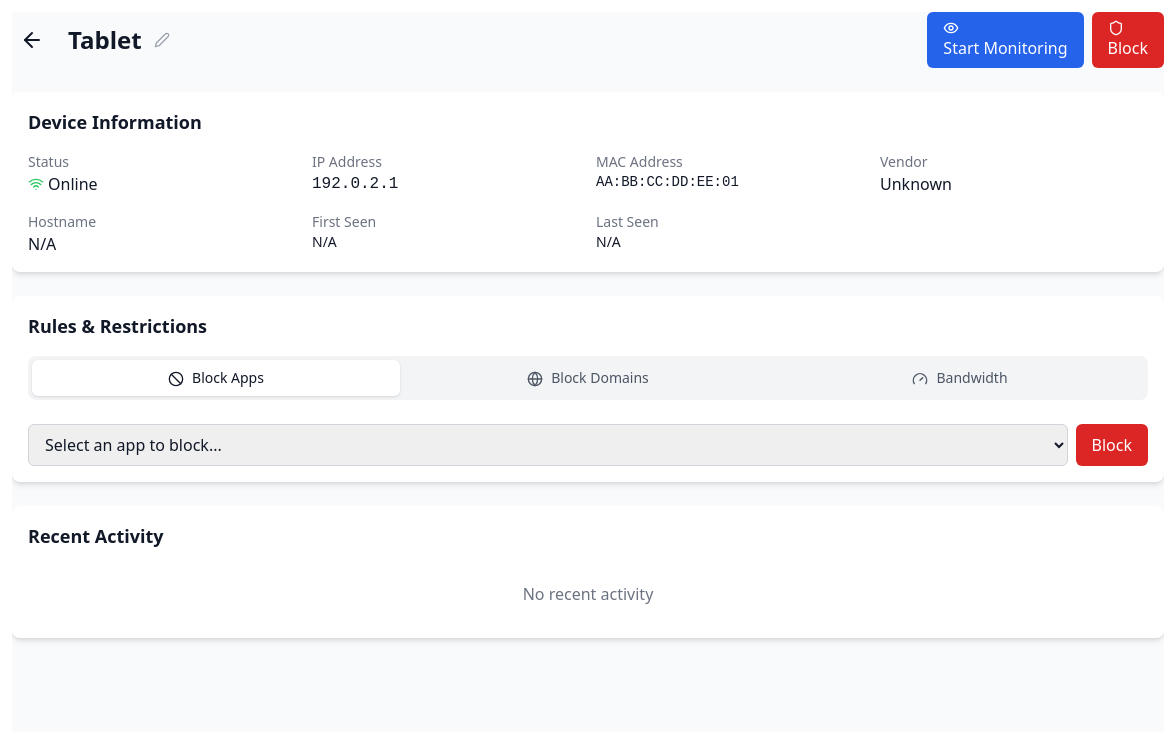
Test case: refreshes the persisted failed rule after an apply rejection
Check: the heading "Tablet" is shown, box 68,24 -> 142,56
Click the button "Block Domains" at x=588, y=378, box 404,360 -> 772,396
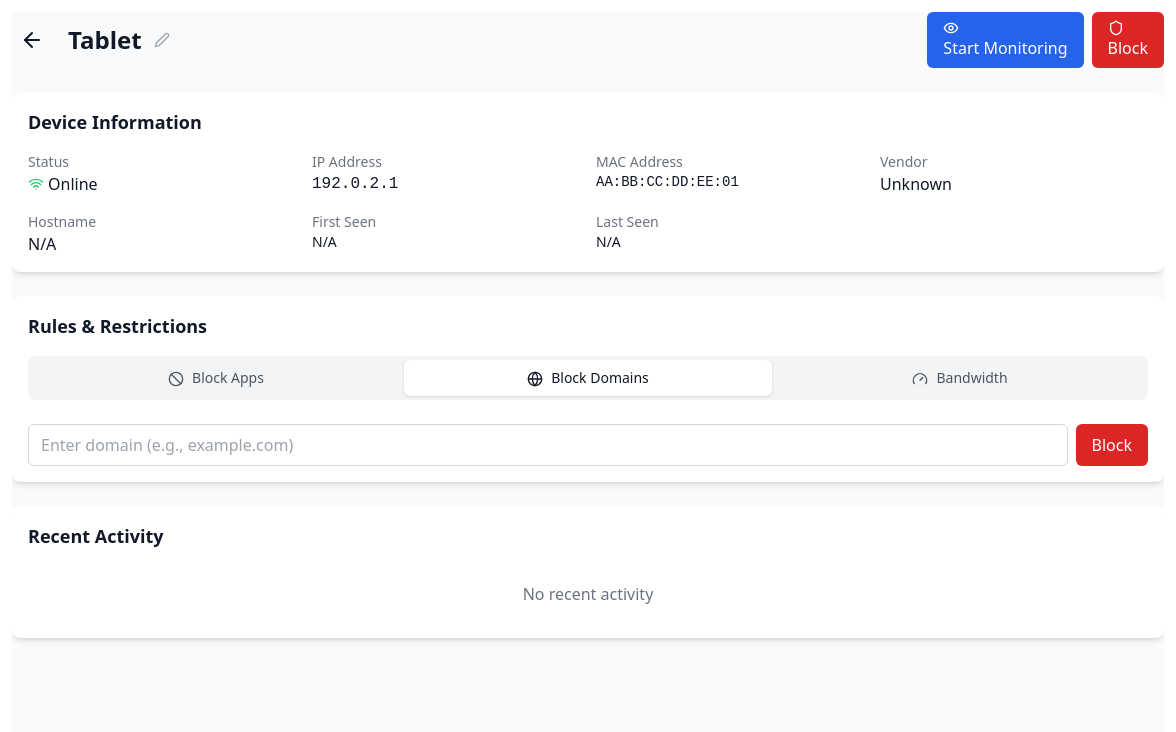
Type "blocked.example" into the field with placeholder "Enter domain (e.g., example.com)" at x=548, y=445, box 28,424 -> 1068,466
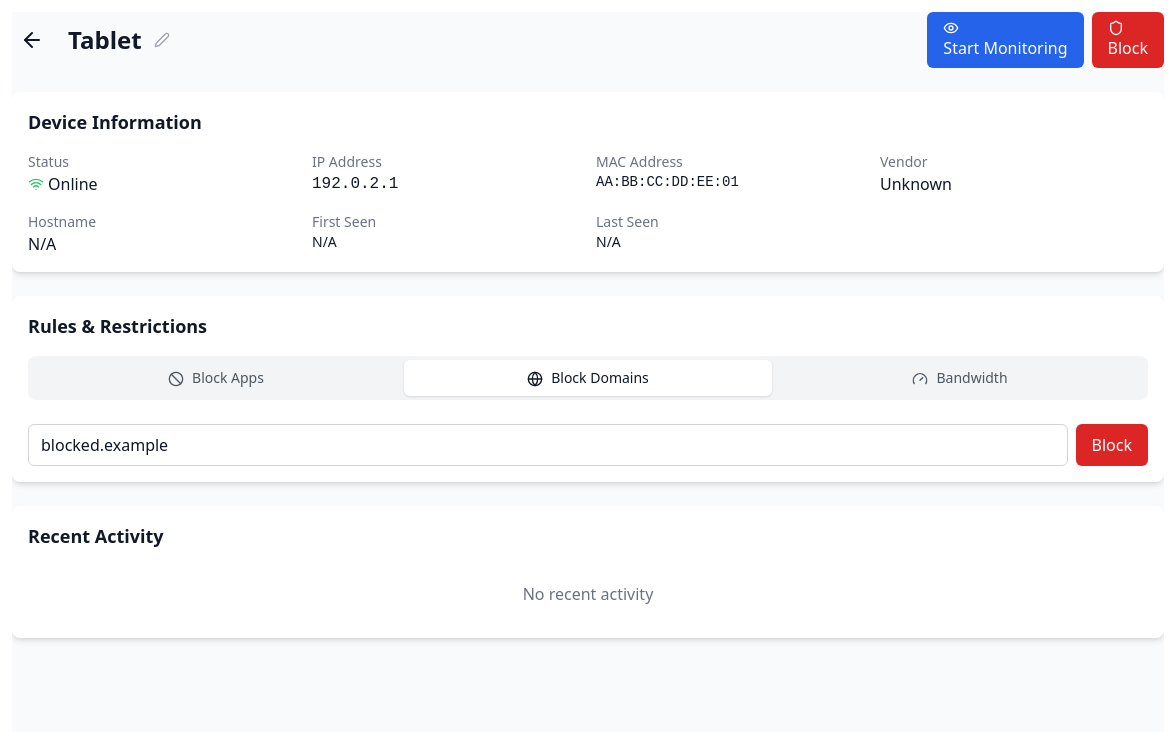
Click the 2nd button "Block" at x=1112, y=445, box 1076,424 -> 1148,466
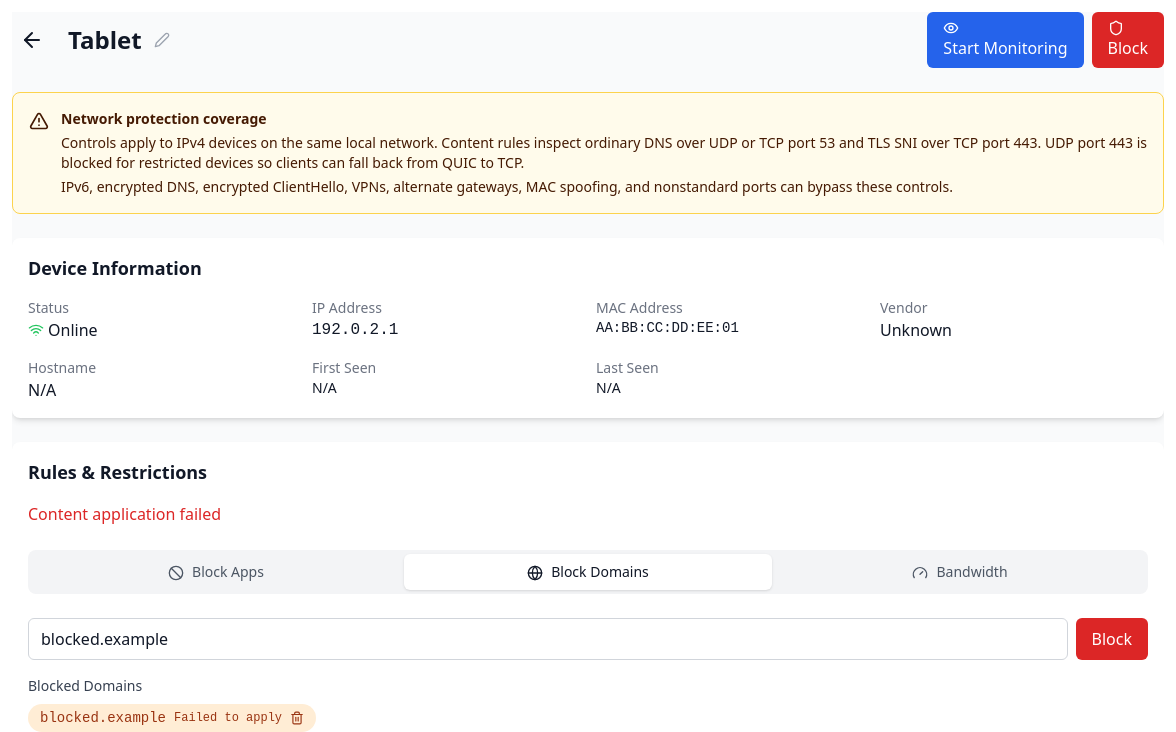
Check: the message "Content application failed" is shown, box 28,503 -> 221,525
Check: the text "Failed to apply" is shown, box 174,710 -> 282,726
